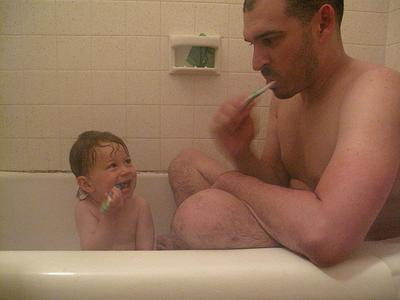person: (166, 4, 400, 267)
